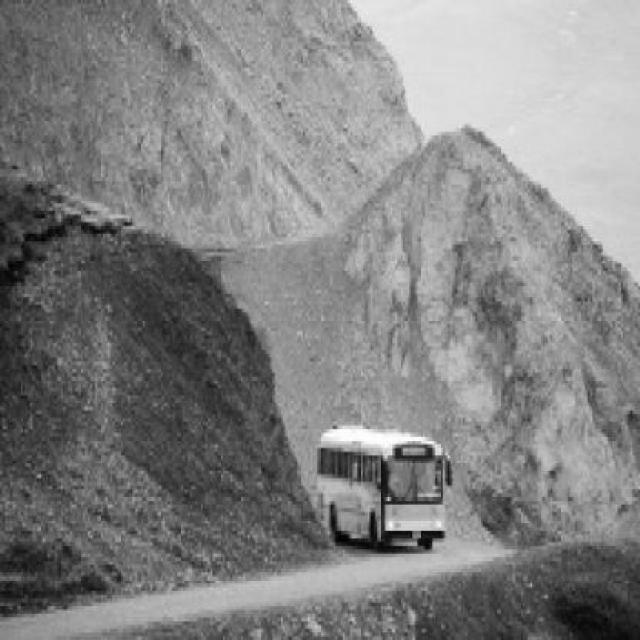Bus: (316, 425, 453, 552)
